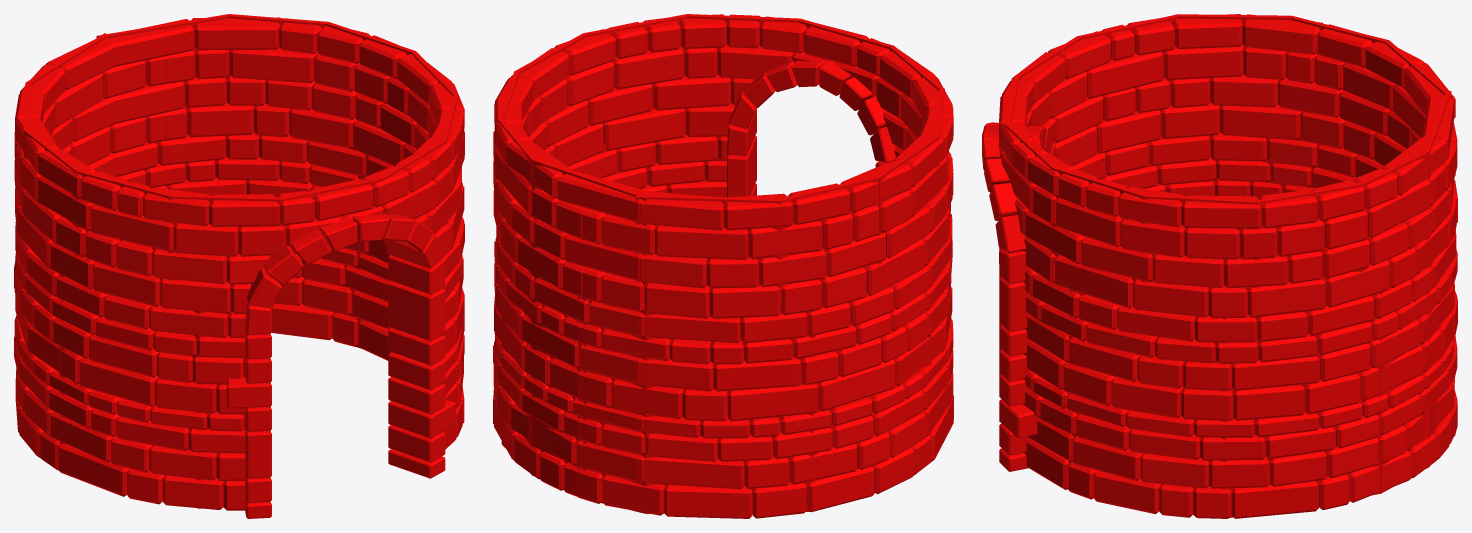
Rendered from base-section-with-doorway-mid-detail.glb.
The picture shows the model from 3 angles, left to right: view 1: azimuth 30°, elevation 25°; view 2: azimuth 150°, elevation 25°; view 3: azimuth 270°, elevation 25°; orthographic projection. The views are drawn at different scales.
Parts seen in each view (by area): view 1: main-wall.001, doorframe.003, grout-wall.005; view 2: main-wall.001, grout-wall.005, doorframe.003; view 3: main-wall.001, doorframe.003, grout-wall.005.
Part boxes in pixels (box(x1,y1,x2,y2)): main-wall.001: box(14, 17, 464, 510); doorframe.003: box(227, 213, 455, 518); grout-wall.005: box(23, 14, 458, 508); main-wall.001: box(493, 14, 953, 518); grout-wall.005: box(498, 14, 944, 513); doorframe.003: box(727, 60, 895, 197); main-wall.001: box(998, 14, 1457, 518); doorframe.003: box(982, 122, 1057, 471); grout-wall.005: box(1005, 14, 1452, 517).
Bounding box in the file's own units: 2.9 × 2.19 × 2.99.
